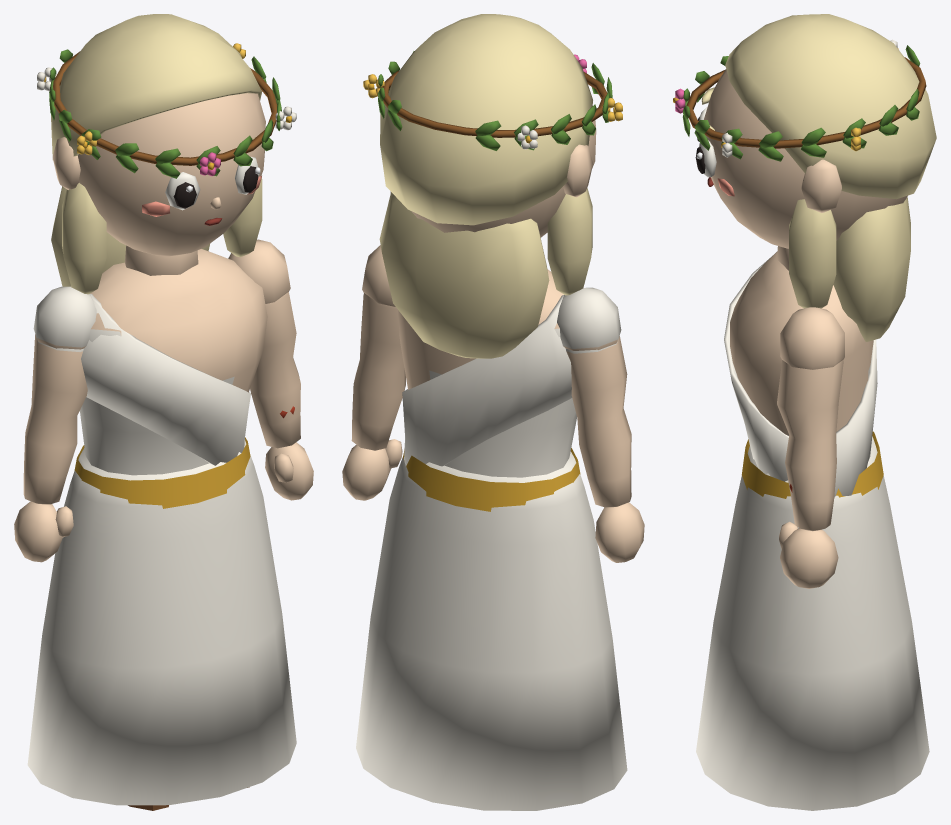
File: eurydike.glb
The picture shows the model from 3 angles, left to right: view 1: azimuth 30°, elevation 25°; view 2: azimuth 150°, elevation 25°; view 3: azimuth 270°, elevation 25°; orthographic projection.
Visible parts, largest first — view 1: huefte, rumpf, haare, kopf, armL, armR, kopfschmuck, augeL, augeR; view 2: huefte, haare, rumpf, armL, armR, kopfschmuck, kopf; view 3: huefte, haare, rumpf, armR, kopf, kopfschmuck, augeR.
Part boxes in pixels (box(x1,y1,x2,y2)): huefte: box(27, 440, 296, 805); rumpf: box(74, 249, 267, 508); haare: box(51, 14, 262, 294); kopf: box(52, 93, 265, 275); armL: box(14, 286, 96, 562); armR: box(228, 239, 313, 500); kopfschmuck: box(37, 43, 296, 178); augeL: box(165, 172, 200, 210); augeR: box(235, 156, 260, 194); huefte: box(356, 451, 627, 810); haare: box(379, 14, 592, 358); rumpf: box(398, 269, 580, 511); armL: box(557, 287, 644, 562); armR: box(342, 245, 405, 500); kopfschmuck: box(363, 51, 622, 150); kopf: box(411, 120, 596, 237); huefte: box(696, 436, 929, 810); haare: box(725, 14, 936, 341); rumpf: box(724, 251, 883, 498); armR: box(777, 307, 844, 588); kopf: box(704, 69, 907, 270); kopfschmuck: box(673, 39, 926, 161); augeR: box(695, 140, 716, 177).
Bounding box in the file's own units: 0.9329 × 2.29 × 0.7336.
